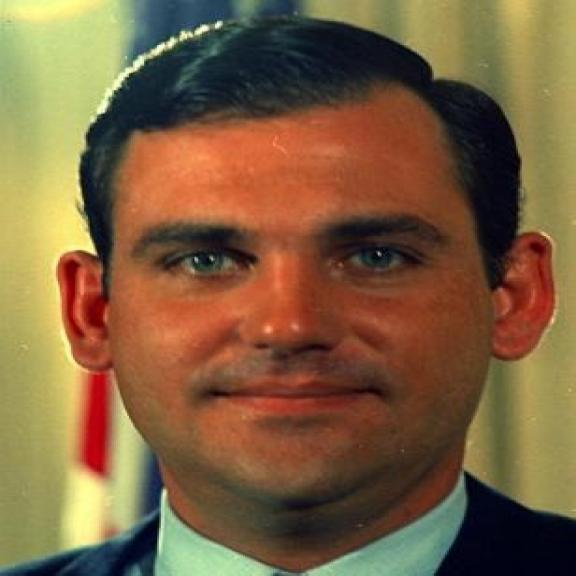face: (48, 97, 559, 512)
